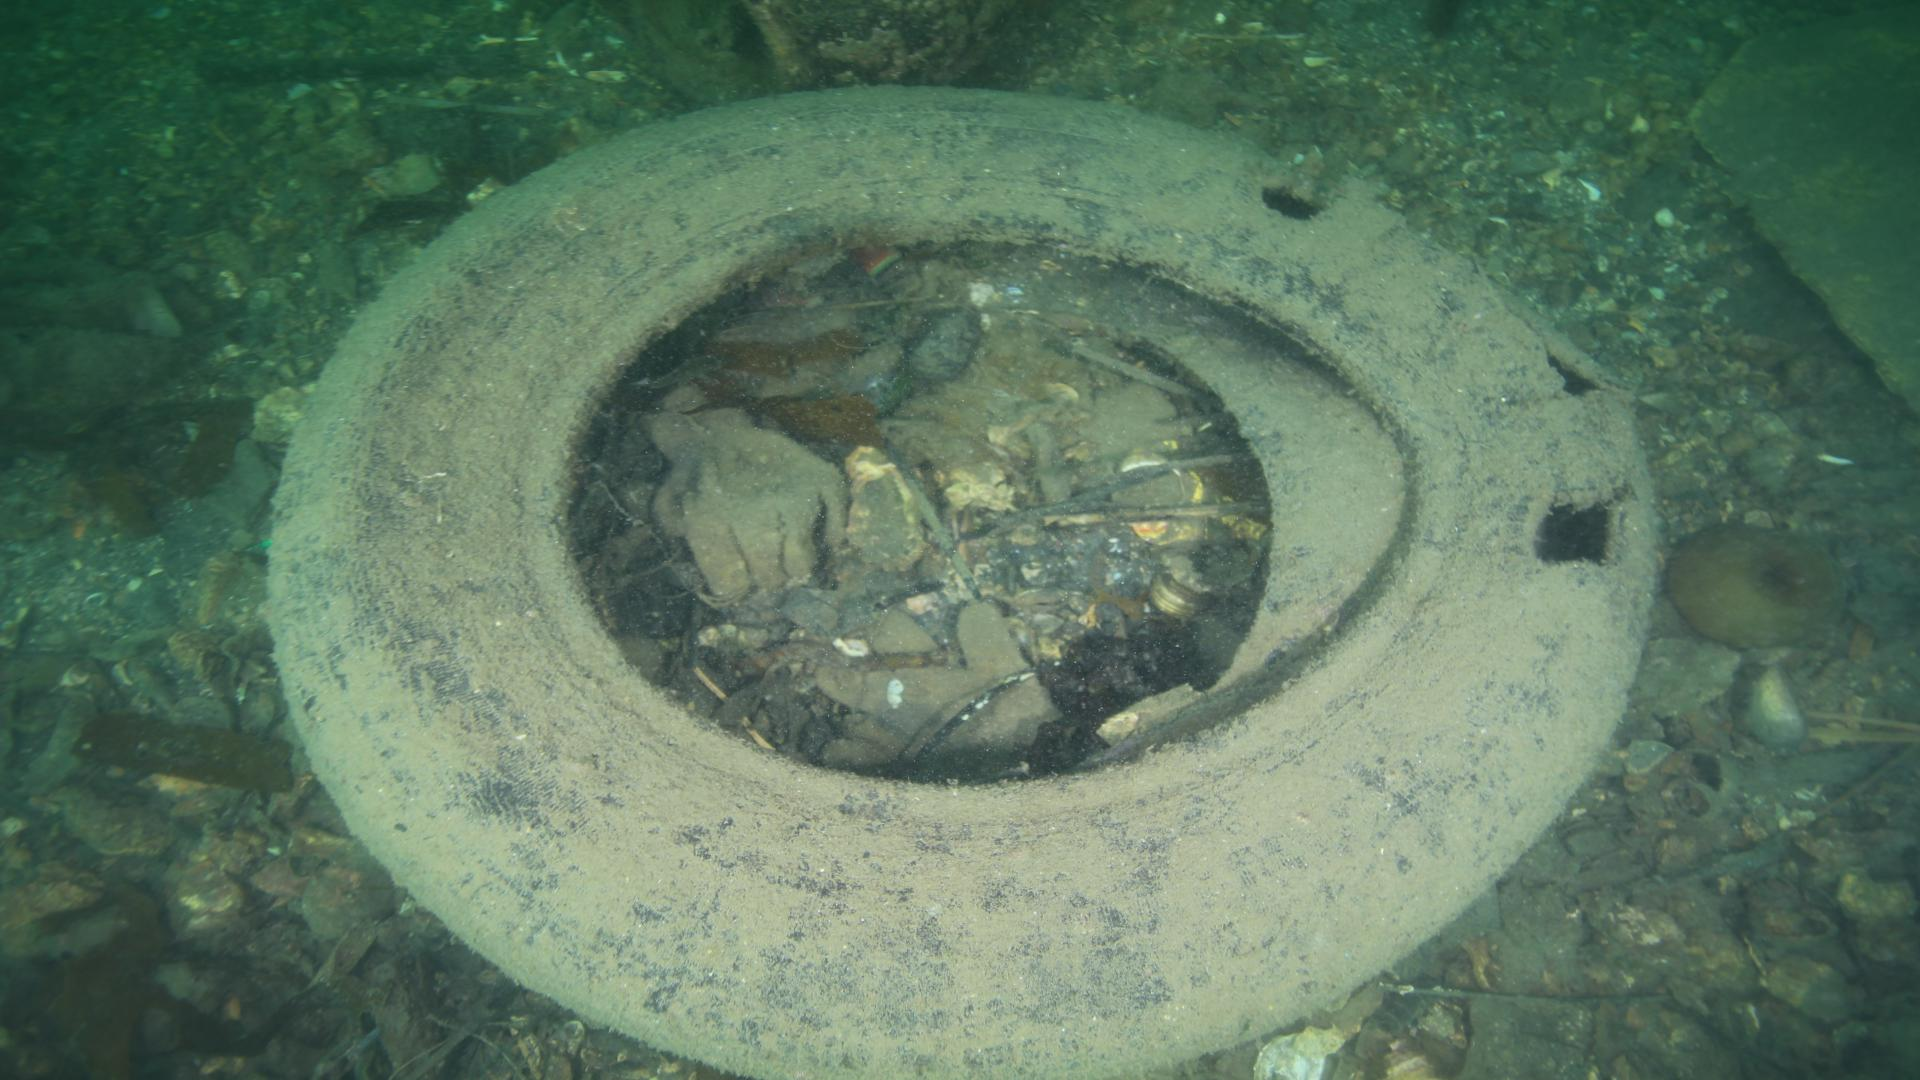tire: (261, 80, 1656, 1080)
